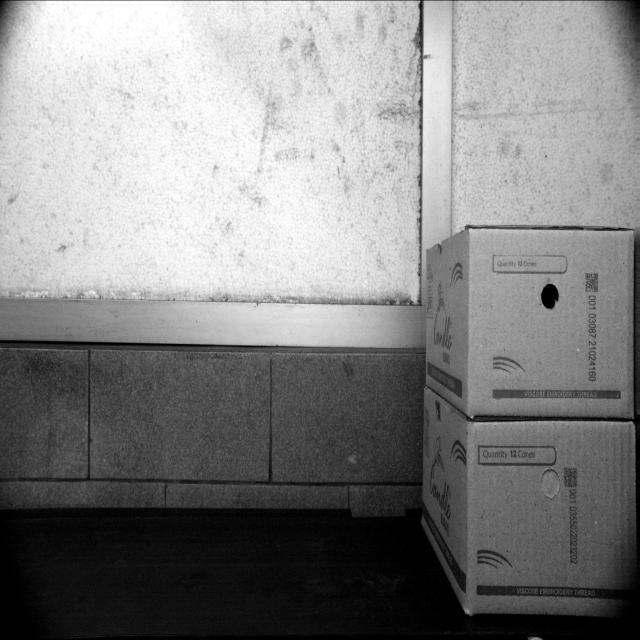box: (470, 426, 640, 620), (472, 226, 638, 424)
